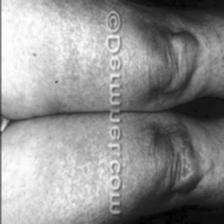Toxin: (172, 154, 200, 190), (72, 156, 100, 190)
